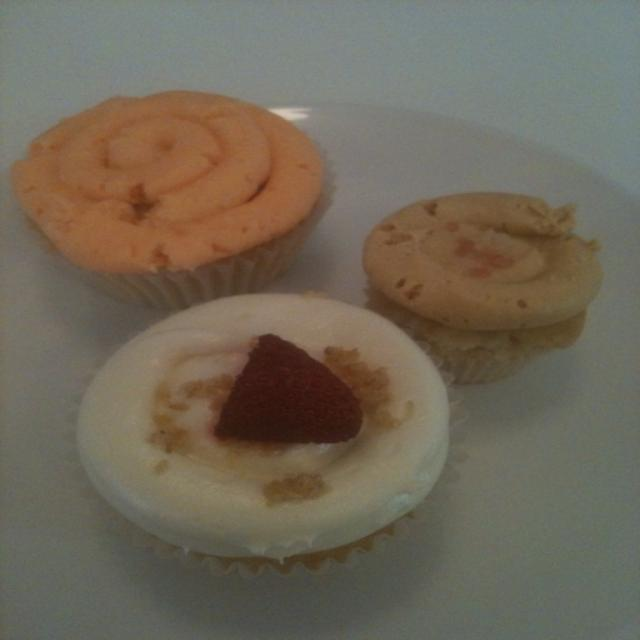Muffin: (61, 288, 469, 582), (8, 91, 340, 313), (358, 190, 610, 385)
